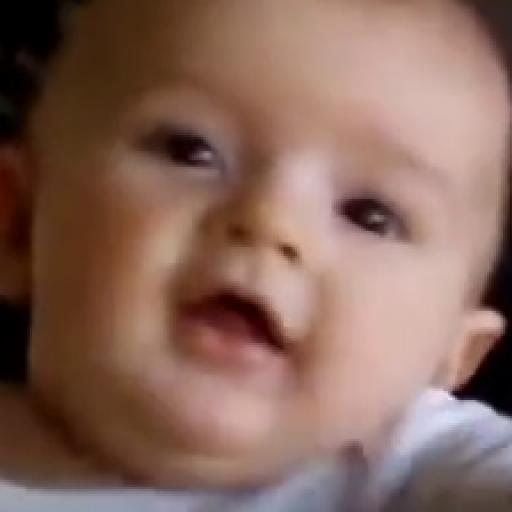Autism: (16, 2, 512, 469)
